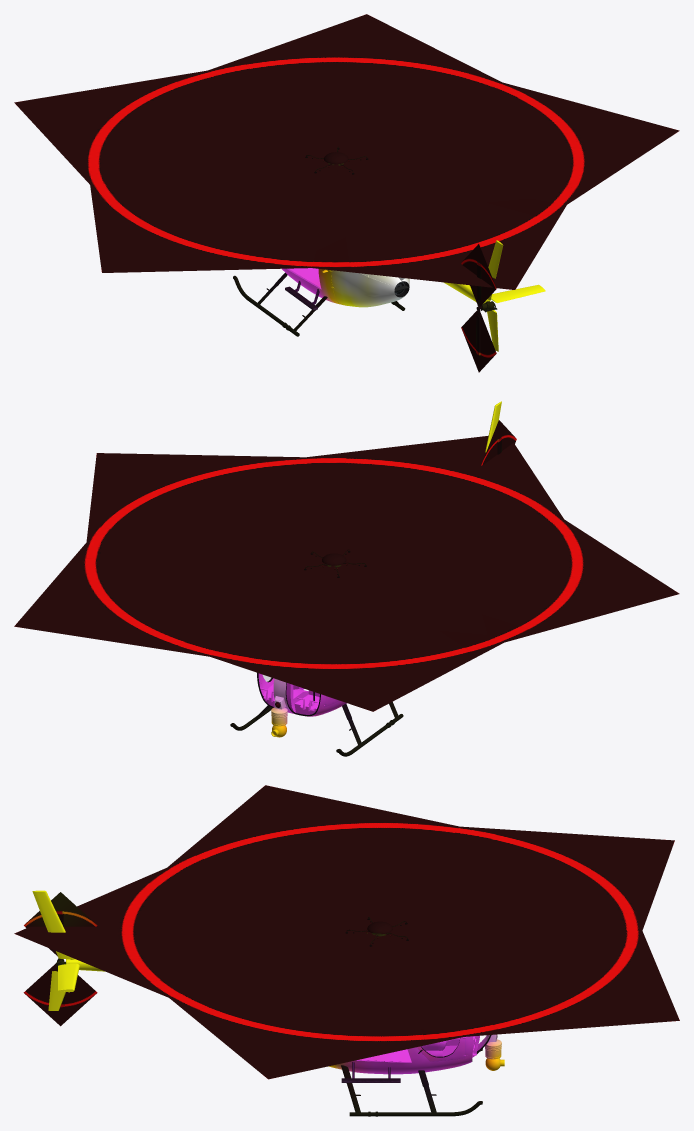
File: buzzard2.glb
3 renders of one model, top to bottom at view 1: azimuth 30°, elevation 25°; view 2: azimuth 150°, elevation 25°; view 3: azimuth 270°, elevation 25°, orthographic. The views are drawn at different scales.
Visible parts, largest first — view 1: rotor_main_fast, bodyshell, rotor_rear_fast, tail, suspension_lf, chassis; view 2: rotor_main_fast, bodyshell, chassis, suspension_lf, rotor_rear_fast; view 3: rotor_main_fast, rotor_rear_fast, bodyshell, tail, chassis, suspension_rf.
Boxes of the visible parts, x1,y1,x2,y2 form: rotor_main_fast: [14, 14, 679, 289]; bodyshell: [282, 268, 409, 307]; rotor_rear_fast: [461, 244, 496, 372]; tail: [443, 240, 545, 351]; suspension_lf: [233, 272, 327, 336]; chassis: [285, 268, 321, 310]; rotor_main_fast: [14, 435, 679, 711]; bodyshell: [257, 673, 346, 726]; chassis: [258, 673, 319, 714]; suspension_lf: [336, 702, 403, 756]; rotor_rear_fast: [481, 420, 516, 465]; rotor_main_fast: [14, 785, 679, 1079]; rotor_rear_fast: [23, 892, 97, 1026]; bodyshell: [328, 1034, 501, 1074]; tail: [32, 890, 104, 1010]; chassis: [341, 1035, 489, 1082]; suspension_rf: [341, 1065, 482, 1116].
Size of the model in its own units: 12.69 by 4 by 12.13.
13 materials, 9 textured.
